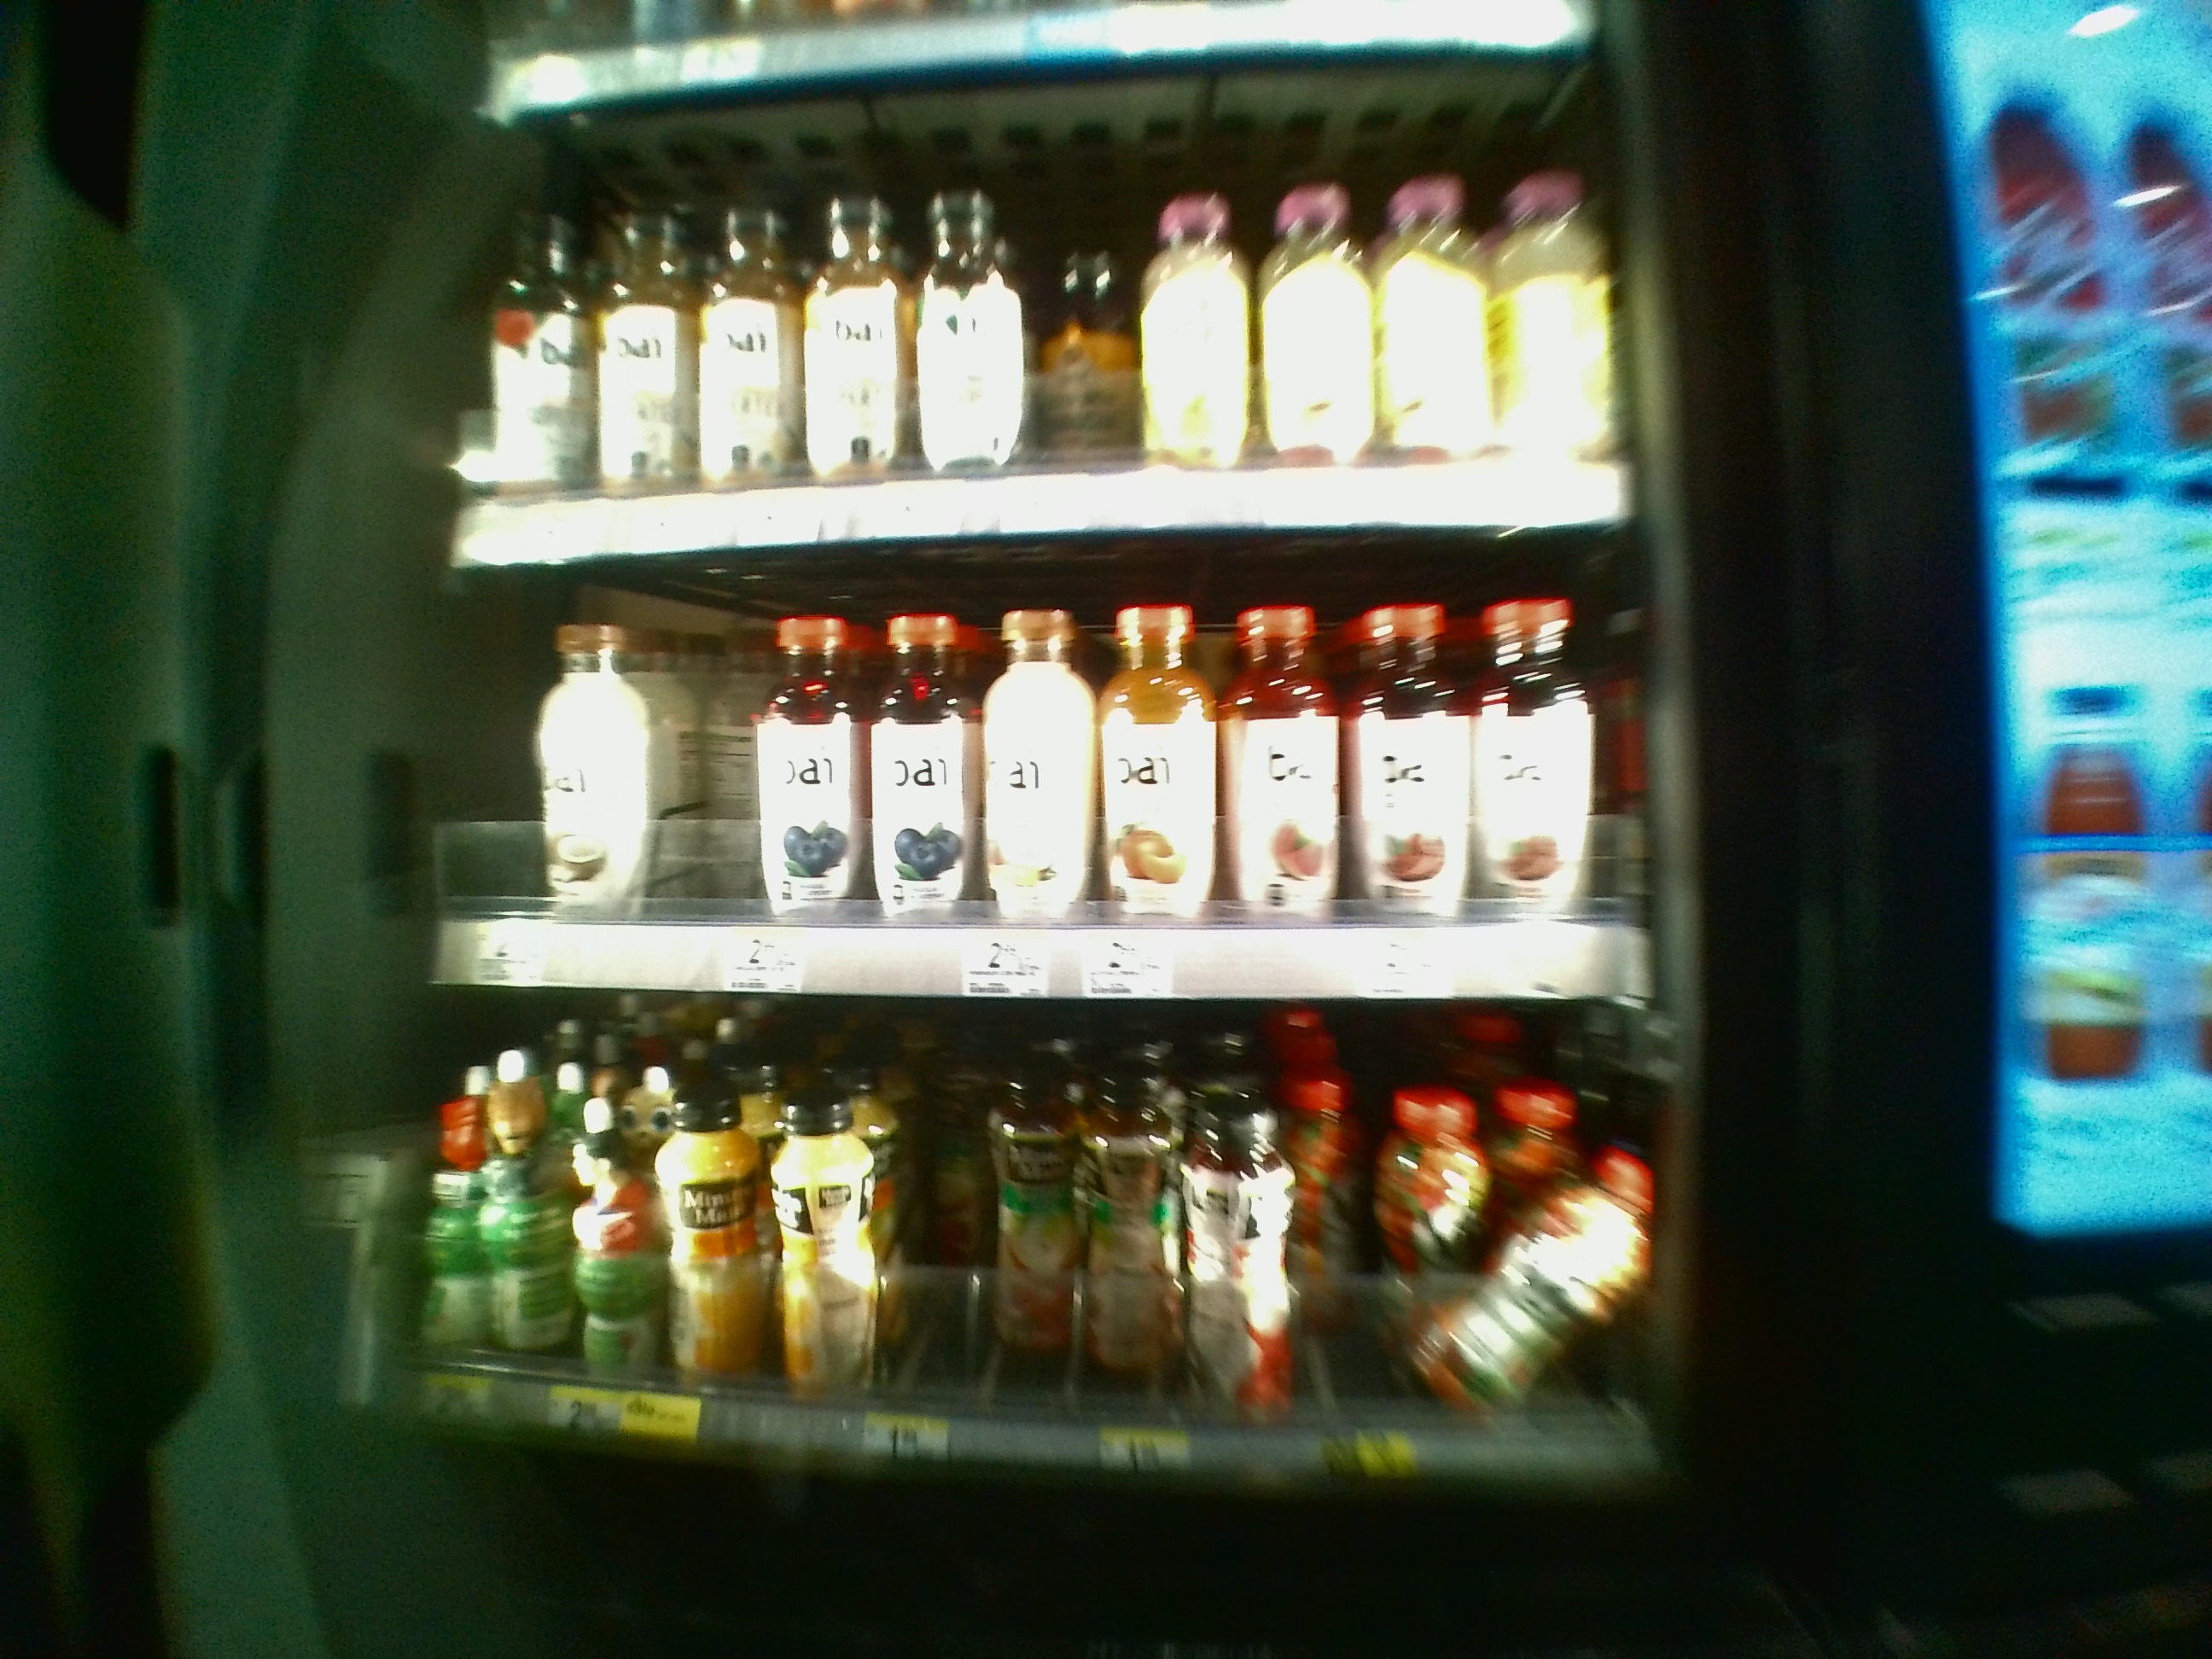shelf: (406, 1007, 1669, 1499), (451, 125, 1629, 566), (427, 586, 1639, 1000)
